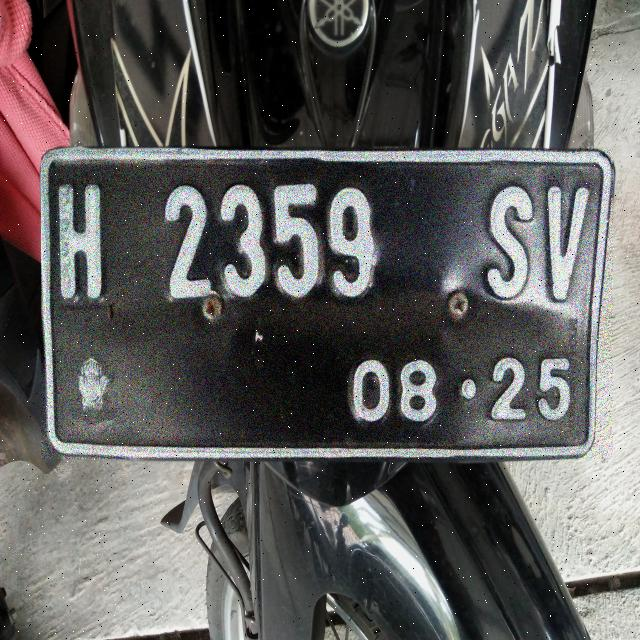plate: (41, 149, 611, 458)
